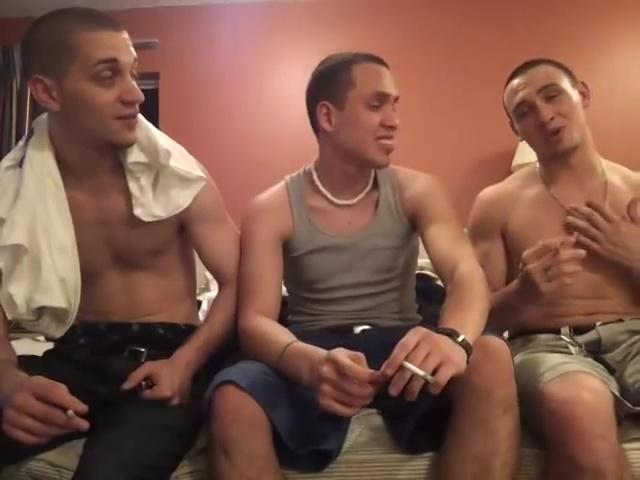cigarette: (403, 360, 436, 386)
